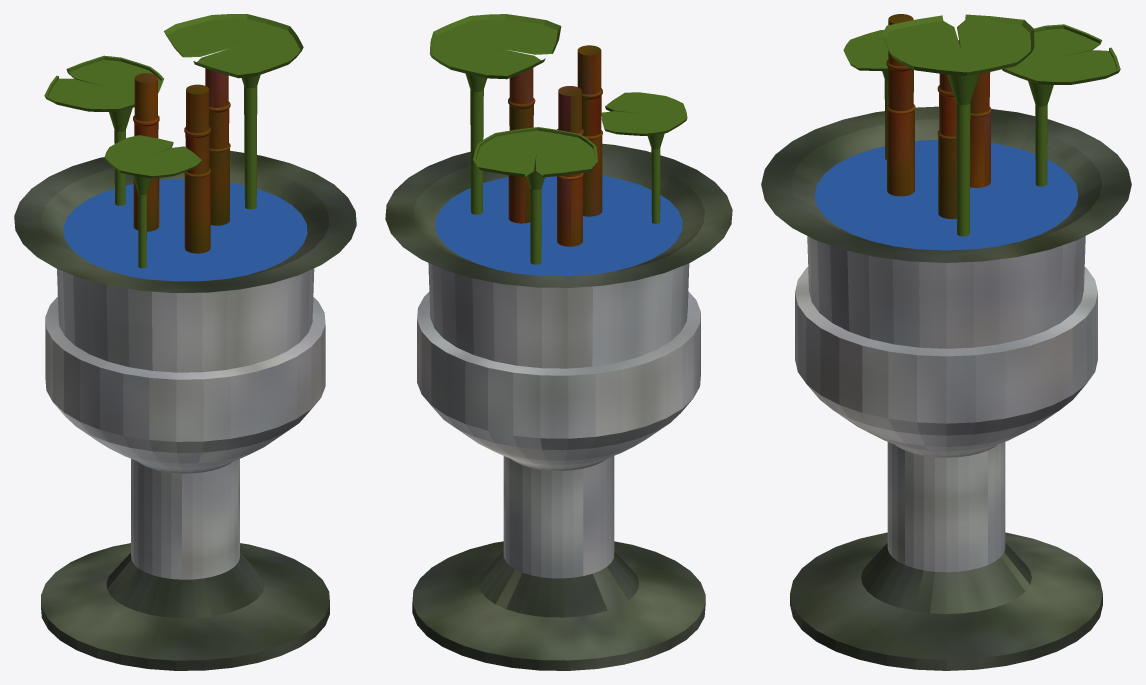
Rendered from vaso3.fbx.
3 renders of one model, left to right at view 1: azimuth 30°, elevation 25°; view 2: azimuth 150°, elevation 25°; view 3: azimuth 270°, elevation 25°, orthographic. The views are drawn at different scales.
Parts seen in each view (by area): view 1: Plano.013; view 2: Plano.013; view 3: Plano.013.
Part boxes in pixels (x1,y1,x2,y2): Plano.013: (14, 14, 356, 670); Plano.013: (385, 14, 732, 670); Plano.013: (761, 14, 1131, 670).
Size of the model in its own units: 148 by 260 by 148.
1 material, 1 textured.
